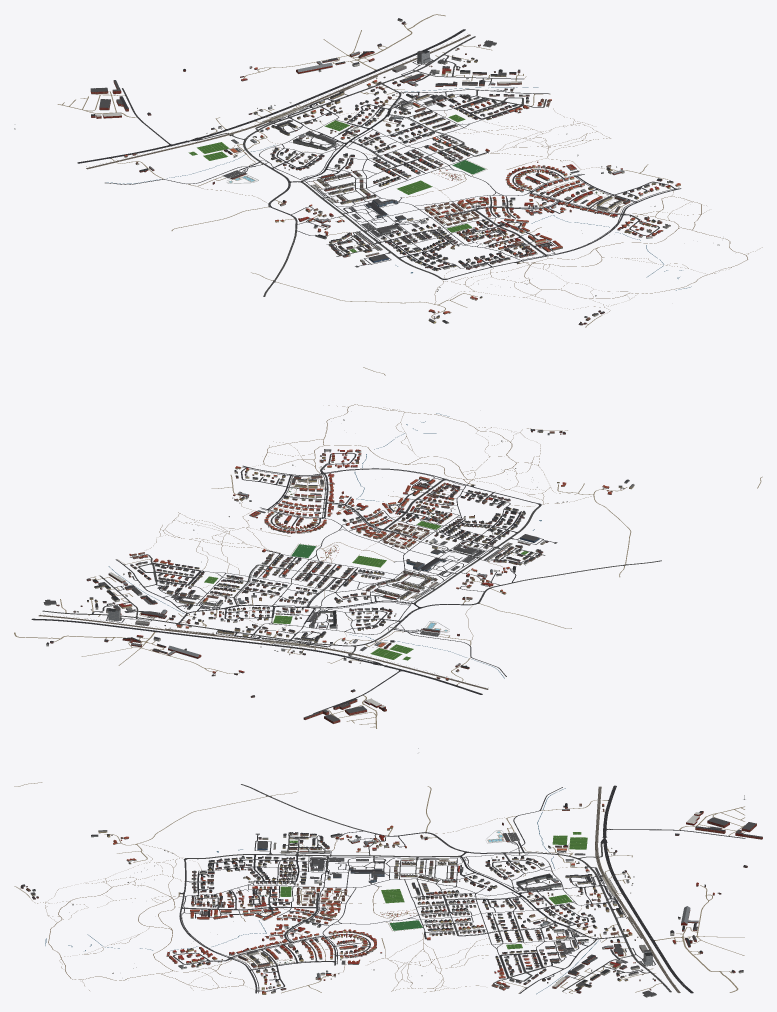
Rendered from linghem_objekt.glb.
3 renders of one model, top to bottom at view 1: azimuth 30°, elevation 25°; view 2: azimuth 150°, elevation 25°; view 3: azimuth 270°, elevation 25°, orthographic. The views are drawn at different scales.
Parts seen in each view (by area): view 1: Byggnader_OSM/Byggnader_OSM_3_6_Fasad_atlas; view 2: Byggnader_OSM/Byggnader_OSM_3_6_Fasad_atlas; view 3: Byggnader_OSM/Byggnader_OSM_2_6_Fasad_atlas, Byggnader_OSM/Byggnader_OSM_5_5_Fasad_atlas, Byggnader_OSM/Byggnader_OSM_5_6_Fasad_atlas, Byggnader_OSM/Byggnader_OSM_3_6_Fasad_atlas, Byggnader_OSM/Byggnader_OSM_4_3_Fasad_atlas, Byggnader_OSM/Byggnader_OSM_4_2_Fasad_atlas, Byggnader_OSM/Byggnader_OSM_3_4_Fasad_atlas, Vagar/Vagar_3_3_Vag_asfalt, Byggnader_OSM/Byggnader_OSM_4_6_Fasad_atlas, Byggnader_OSM/Byggnader_OSM_4_4_Fasad_atlas, Vagar/Vagar_2_3_Vag_asfalt, Byggnader_OSM/Byggnader_OSM_2_4_Fasad_atlas.
Boxes of the visible parts, <box> form: Byggnader_OSM/Byggnader_OSM_3_6_Fasad_atlas: <box>418,213,502,248</box>; Byggnader_OSM/Byggnader_OSM_3_6_Fasad_atlas: <box>395,506,476,543</box>; Byggnader_OSM/Byggnader_OSM_2_6_Fasad_atlas: <box>247,841,323,875</box>; Byggnader_OSM/Byggnader_OSM_5_5_Fasad_atlas: <box>318,934,382,964</box>; Byggnader_OSM/Byggnader_OSM_5_6_Fasad_atlas: <box>247,934,321,964</box>; Byggnader_OSM/Byggnader_OSM_3_6_Fasad_atlas: <box>248,875,321,905</box>; Byggnader_OSM/Byggnader_OSM_4_3_Fasad_atlas: <box>460,904,530,934</box>; Byggnader_OSM/Byggnader_OSM_4_2_Fasad_atlas: <box>530,904,600,936</box>; Byggnader_OSM/Byggnader_OSM_3_4_Fasad_atlas: <box>394,874,462,904</box>; Vagar/Vagar_3_3_Vag_asfalt: <box>453,875,523,905</box>; Byggnader_OSM/Byggnader_OSM_4_6_Fasad_atlas: <box>248,905,320,935</box>; Byggnader_OSM/Byggnader_OSM_4_4_Fasad_atlas: <box>421,906,462,935</box>; Vagar/Vagar_2_3_Vag_asfalt: <box>453,847,523,875</box>; Byggnader_OSM/Byggnader_OSM_2_4_Fasad_atlas: <box>392,846,459,875</box>.
Size of what is drawn, in the model's own units: 1789 by 98.58 by 2646.
Materials: 89 (19 with a texture image).
